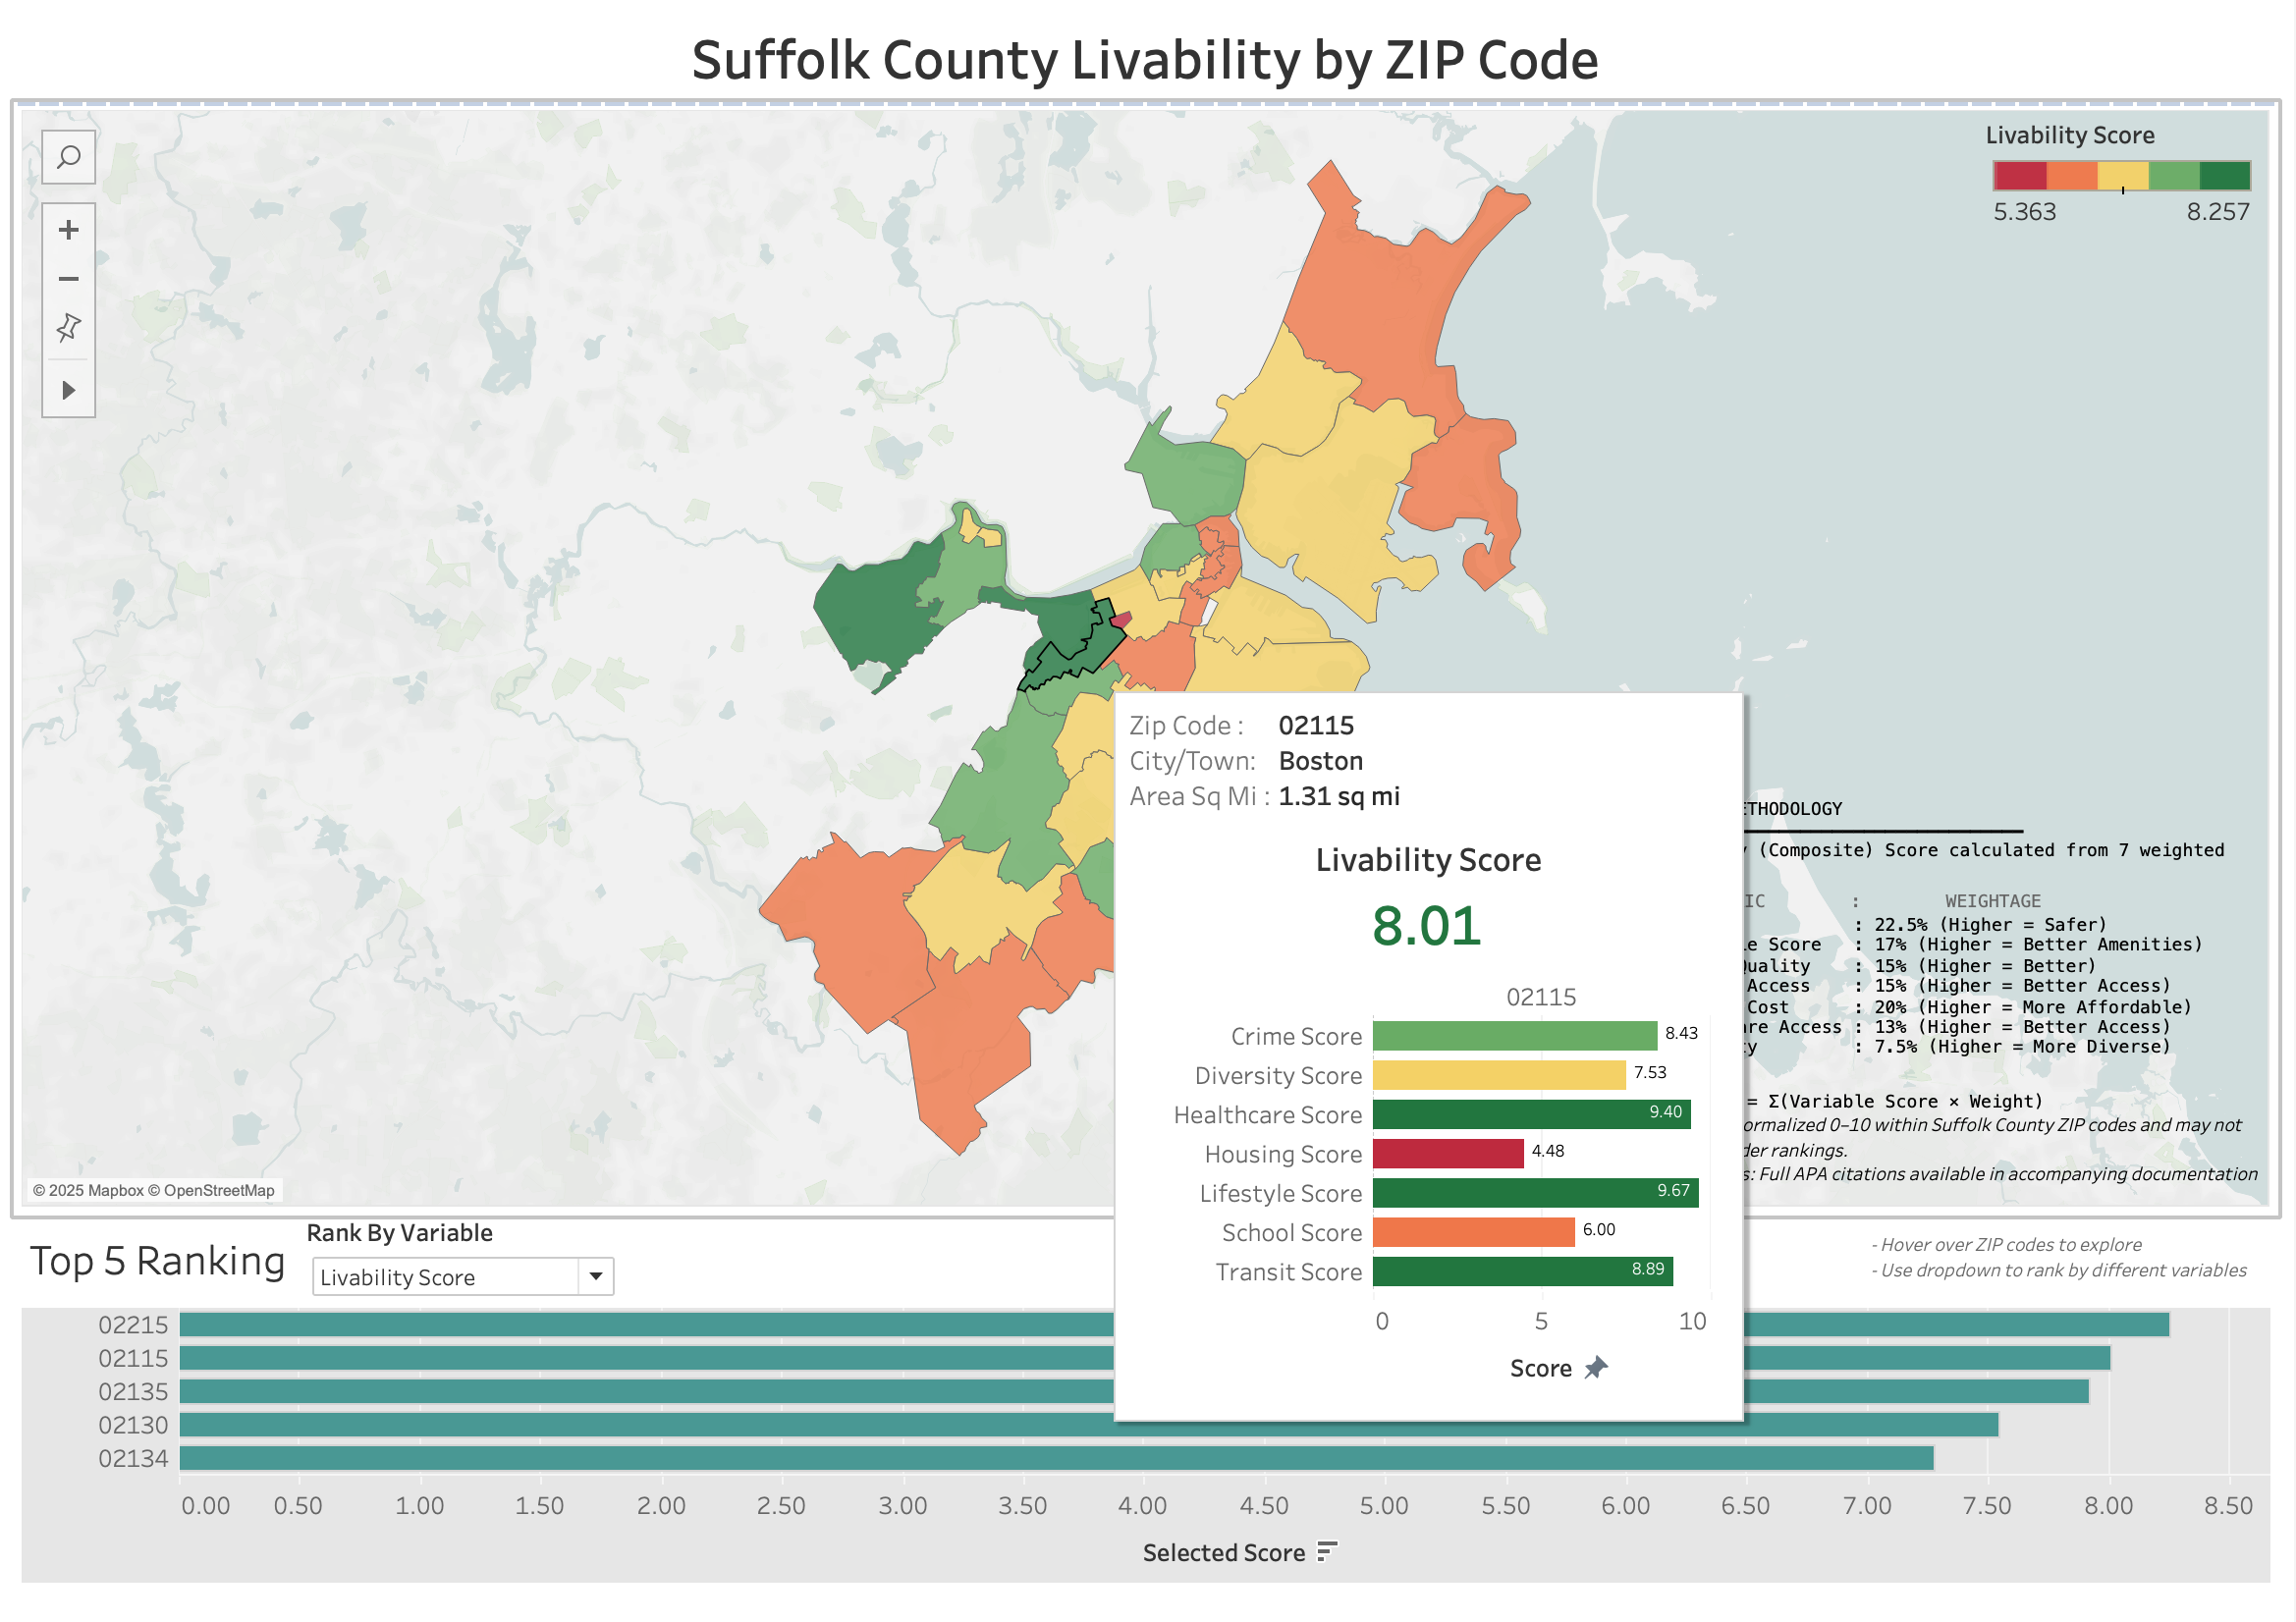

This screenshot's page, from the dashboard's own definition file:
{"tool":"tableau","page":{"name":"Suffolk County Livability by ZIP Code","canvas":[1169,827],"ordinal":0},"visuals":[{"type":"title","box":[8,8,1153,45]},{"type":"worksheet","title":"Livability Map","mark":"Automatic","box":[8,53,1153,567]},{"type":"legend","title":"Livability Map","param":"[federated.1d719s11xr9xd518nq5p11iurqjg].[sum:composite_score:qk]","box":[1012,61,140,76]},{"type":"text","box":[834,408,320,206]},{"type":"legend","title":"Top 5 Ranking","param":"[federated.1d719s11xr9xd518nq5p11iurqjg].[none:tier:nk]","box":[329,562,140,78]},{"type":"worksheet","title":"Top 5 Ranking","mark":"Automatic","rows":["zip_code (suffolk_livability_summary.csv)"],"cols":["Calculation_1255800624306360320"],"box":[8,620,1153,199]},{"type":"parameter","param":"[Parameters].[Parameter 1]","box":[157,620,160,44]}]}

Visuals, with their boxes in screenshot pixels (x1, y1, x2, y2), scaled from the page's 1169x827 canvas onto the 2296x1622 screenshot:
title: rect(16, 16, 2280, 104)
"Livability Map" worksheet: rect(16, 104, 2280, 1216)
"Livability Map" legend: rect(1988, 120, 2263, 269)
text: rect(1638, 800, 2267, 1205)
"Top 5 Ranking" legend: rect(646, 1103, 921, 1255)
"Top 5 Ranking" worksheet: rect(16, 1216, 2280, 1606)
parameter: rect(308, 1216, 623, 1302)
